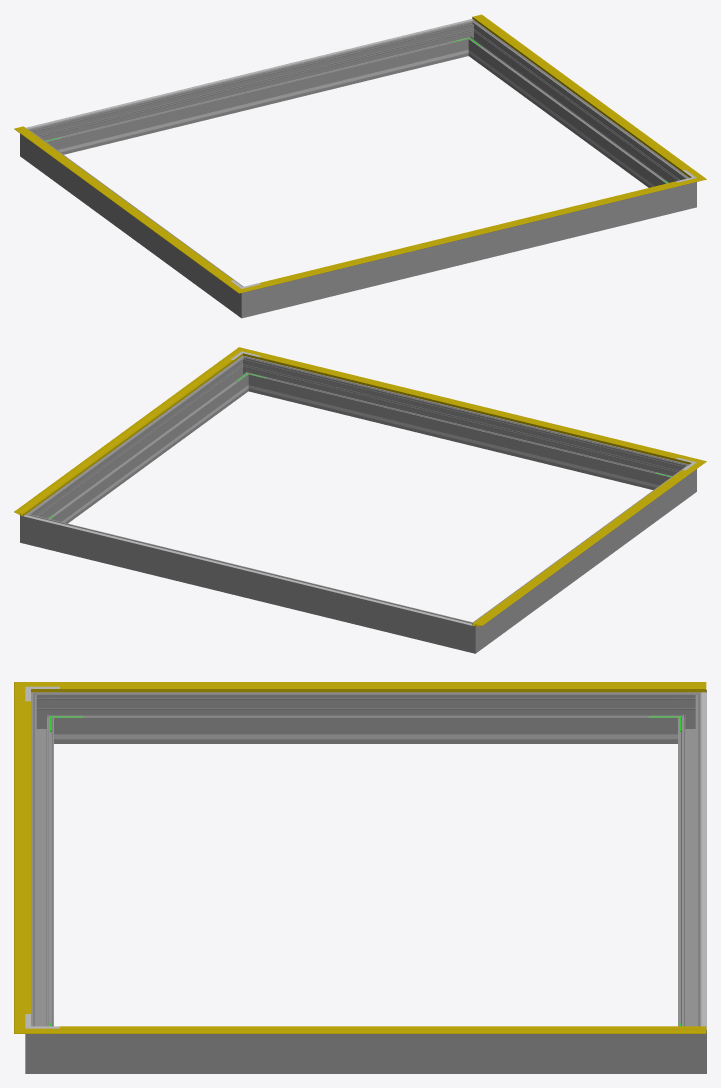
The picture shows the model from 3 angles, top to bottom: view 1: azimuth 30°, elevation 25°; view 2: azimuth 150°, elevation 25°; view 3: azimuth 270°, elevation 25°; orthographic projection. The views are drawn at different scales.
Visible parts, largest first — view 1: 3DGeom-276, 3DGeom-298, 3DGeom-297, 3DGeom-268, 3DGeom-145, 3DGeom-141, 3DGeom-147, 3DGeom-244, 3DGeom-220, 3DGeom-158, 3DGeom-270, 3DGeom-154 (+4 smaller); view 2: 3DGeom-298, 3DGeom-276, 3DGeom-297, 3DGeom-268, 3DGeom-141, 3DGeom-145, 3DGeom-147, 3DGeom-239, 3DGeom-220, 3DGeom-158, 3DGeom-278, 3DGeom-152 (+4 smaller); view 3: 3DGeom-268, 3DGeom-297, 3DGeom-276, 3DGeom-298, 3DGeom-147, 3DGeom-145, 3DGeom-141, 3DGeom-232, 3DGeom-220, 3DGeom-152, 3DGeom-154, 3DGeom-158 (+4 smaller).
Boxes of the visible parts, x1,y1,x2,y2 form: 3DGeom-276: (41, 24, 465, 154); 3DGeom-298: (261, 186, 677, 313); 3DGeom-297: (470, 27, 682, 187); 3DGeom-268: (31, 136, 236, 309); 3DGeom-145: (472, 14, 694, 174); 3DGeom-141: (255, 181, 686, 288); 3DGeom-147: (14, 127, 233, 284); 3DGeom-244: (64, 54, 449, 151); 3DGeom-220: (26, 19, 473, 128); 3DGeom-158: (260, 181, 676, 284); 3DGeom-270: (230, 281, 260, 318); 3DGeom-154: (20, 126, 232, 280); 3DGeom-298: (251, 359, 675, 489); 3DGeom-276: (39, 517, 459, 648); 3DGeom-297: (34, 362, 246, 523); 3DGeom-268: (480, 471, 685, 645); 3DGeom-141: (253, 352, 686, 462); 3DGeom-145: (14, 355, 237, 515); 3DGeom-147: (472, 468, 695, 626); 3DGeom-239: (267, 389, 652, 486); 3DGeom-220: (23, 515, 472, 625); 3DGeom-158: (260, 356, 676, 458); 3DGeom-278: (456, 617, 486, 653); 3DGeom-152: (20, 359, 233, 514); 3DGeom-268: (60, 692, 672, 743); 3DGeom-297: (60, 1034, 672, 1073); 3DGeom-276: (678, 704, 701, 1026); 3DGeom-298: (31, 704, 53, 1026); 3DGeom-147: (48, 682, 706, 692); 3DGeom-145: (48, 1028, 706, 1033); 3DGeom-141: (14, 696, 25, 1018); 3DGeom-232: (87, 734, 644, 739); 3DGeom-220: (701, 692, 706, 1029); 3DGeom-152: (60, 1026, 706, 1028); 3DGeom-154: (60, 686, 706, 688); 3DGeom-158: (25, 701, 30, 1013).
Size of the model in its own units: 3.66 by 0.2195 by 3.05.
